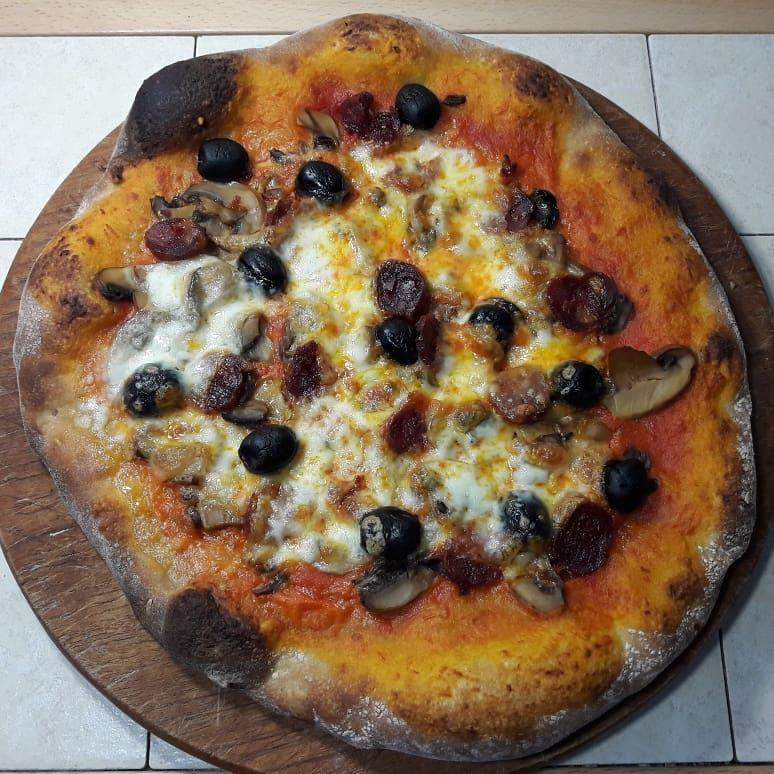Mushroom: (609, 341, 696, 419), (179, 185, 270, 242), (362, 566, 435, 610), (83, 260, 152, 306), (509, 562, 571, 607)
Olives: (594, 458, 649, 520), (362, 502, 421, 554), (235, 422, 305, 465), (294, 156, 349, 207), (500, 490, 556, 540), (125, 362, 184, 408), (395, 80, 445, 133), (375, 315, 421, 367), (230, 253, 286, 294), (559, 357, 600, 407), (190, 145, 247, 179), (472, 303, 515, 341)
Pizza: (30, 16, 760, 752)
